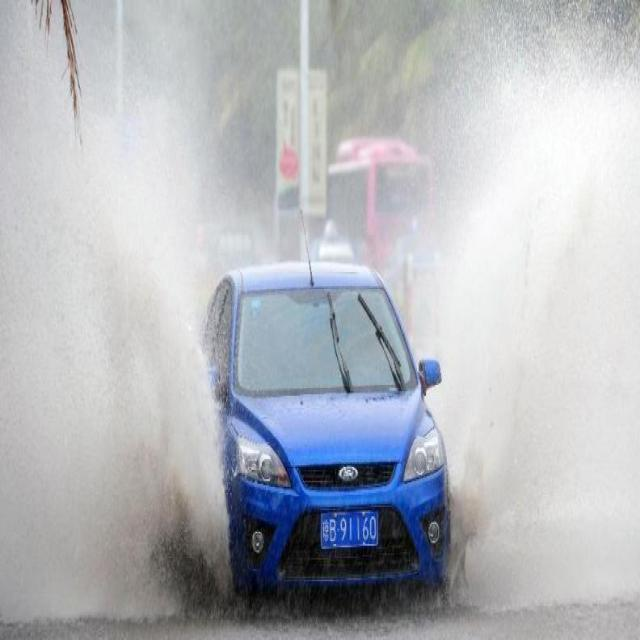car: (180, 208, 450, 602)
